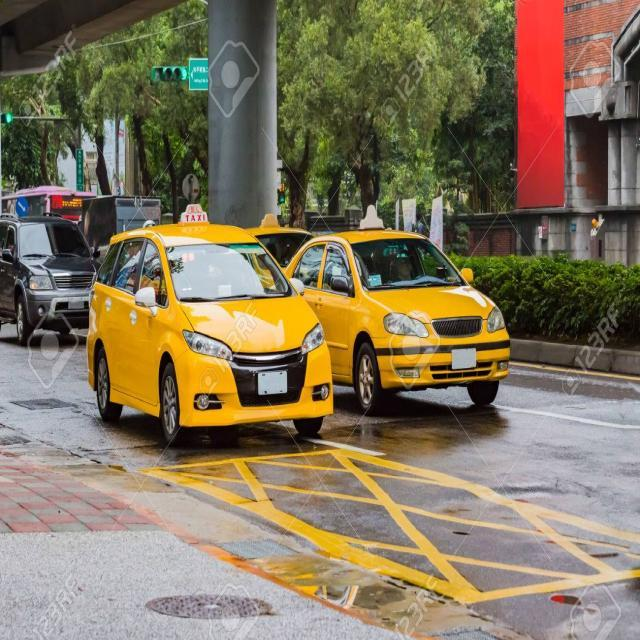taxi: (75, 203, 353, 465), (280, 220, 517, 445)
